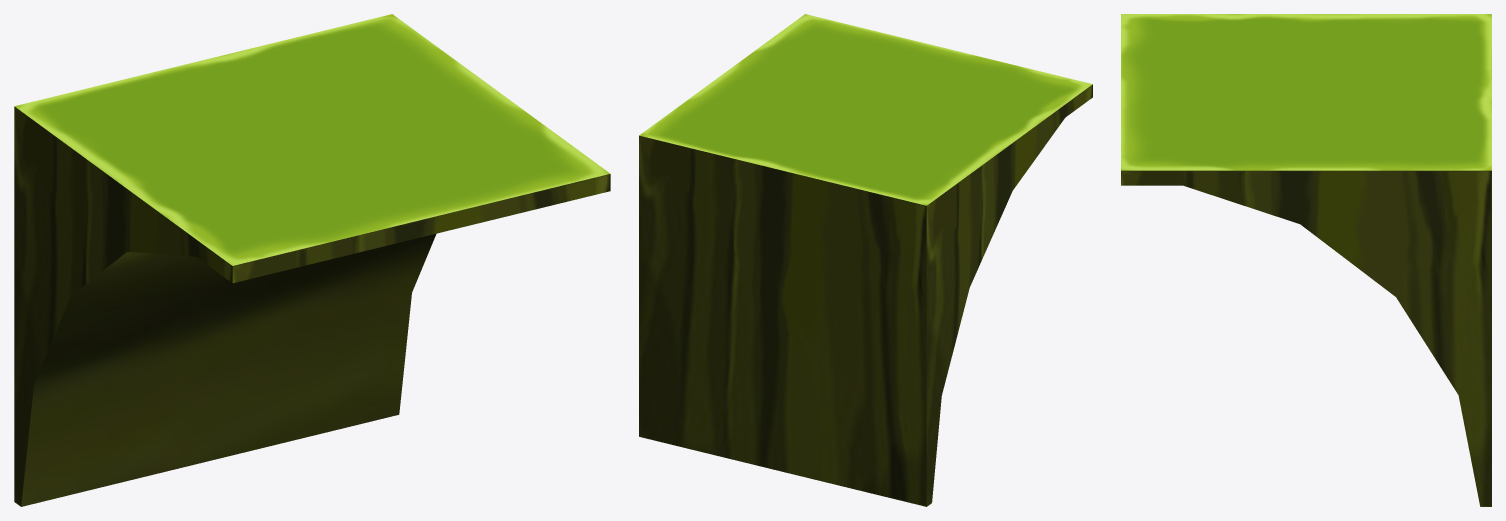
File: Toonel.fbx
3 renders of one model, left to right at view 1: azimuth 30°, elevation 25°; view 2: azimuth 150°, elevation 25°; view 3: azimuth 270°, elevation 25°, orthographic. The views are drawn at different scales.
Parts seen in each view (by area): view 1: Box004; view 2: Box004; view 3: Box004.
Part boxes in pixels (x1=…): Box004: x1=14, y1=14, x2=610, y2=506; Box004: x1=639, y1=14, x2=1092, y2=506; Box004: x1=1121, y1=14, x2=1491, y2=506.
Bounding box in the file's own units: 10 × 10 × 10.
